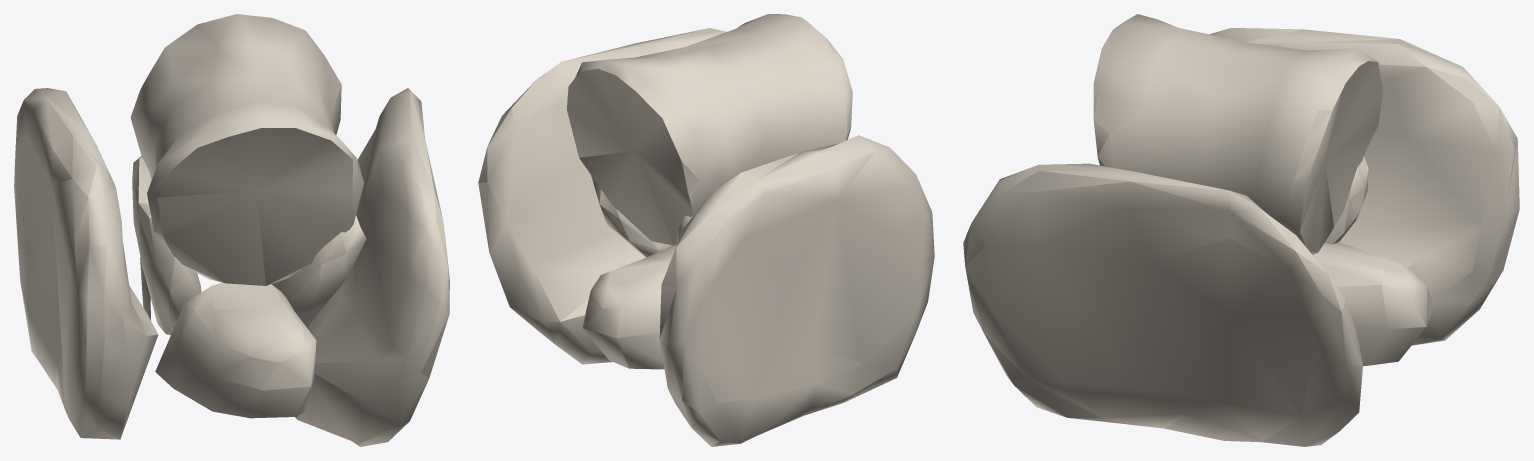
Rendered from dining_napkins.glb.
The picture shows the model from 3 angles, left to right: view 1: azimuth 30°, elevation 25°; view 2: azimuth 150°, elevation 25°; view 3: azimuth 270°, elevation 25°; orthographic projection. The views are drawn at different scales.
Bounding box in the file's own units: 0.32 × 0.2663 × 0.369.
